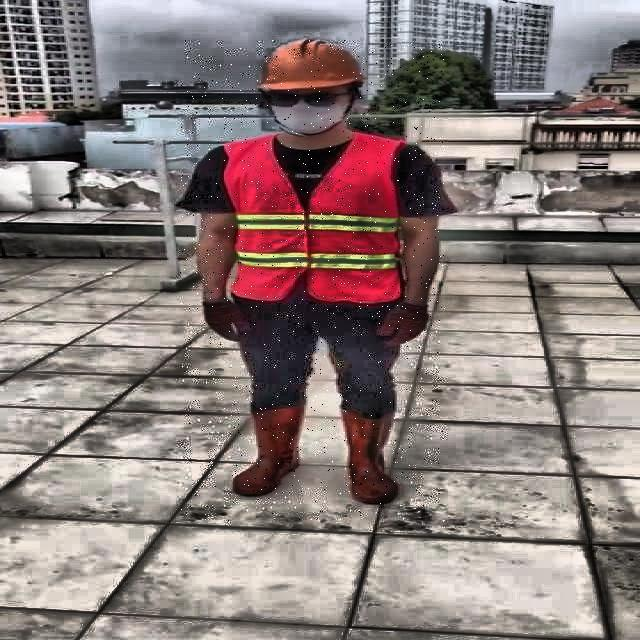safety_helmet: (248, 41, 366, 92)
safety_jacket: (228, 134, 404, 304)
